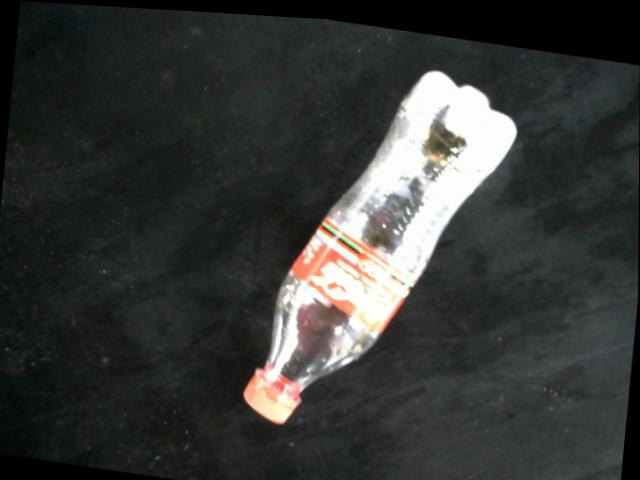bottle: (242, 64, 518, 422)
